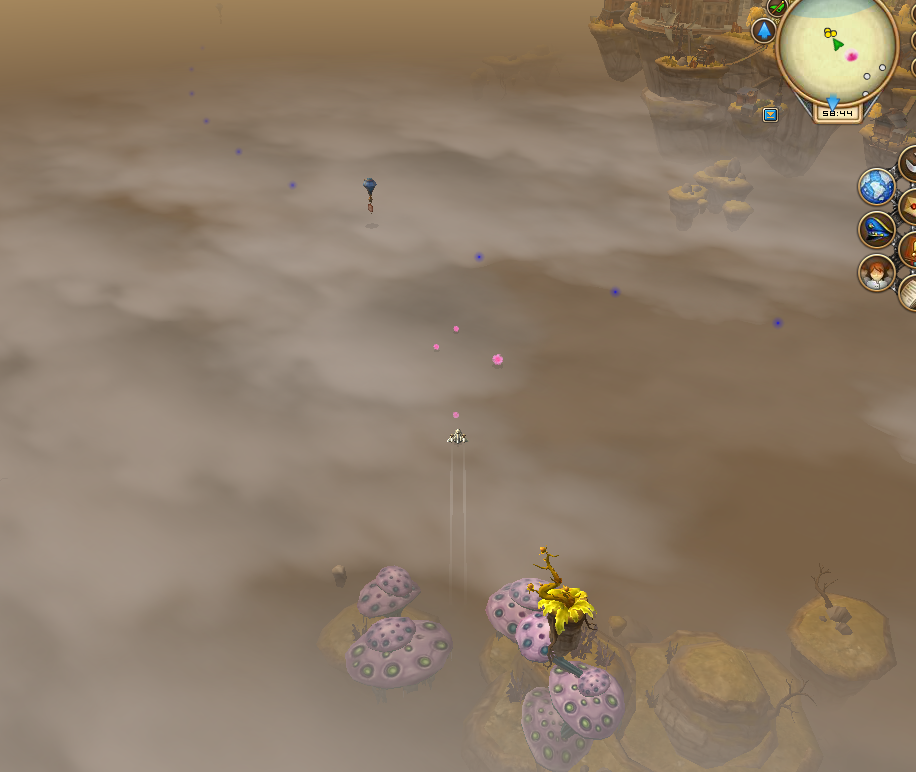dandelion-empty: (530, 538, 603, 675)
fluff: (489, 349, 506, 372), (448, 408, 462, 422), (429, 341, 442, 356), (450, 322, 462, 337)
